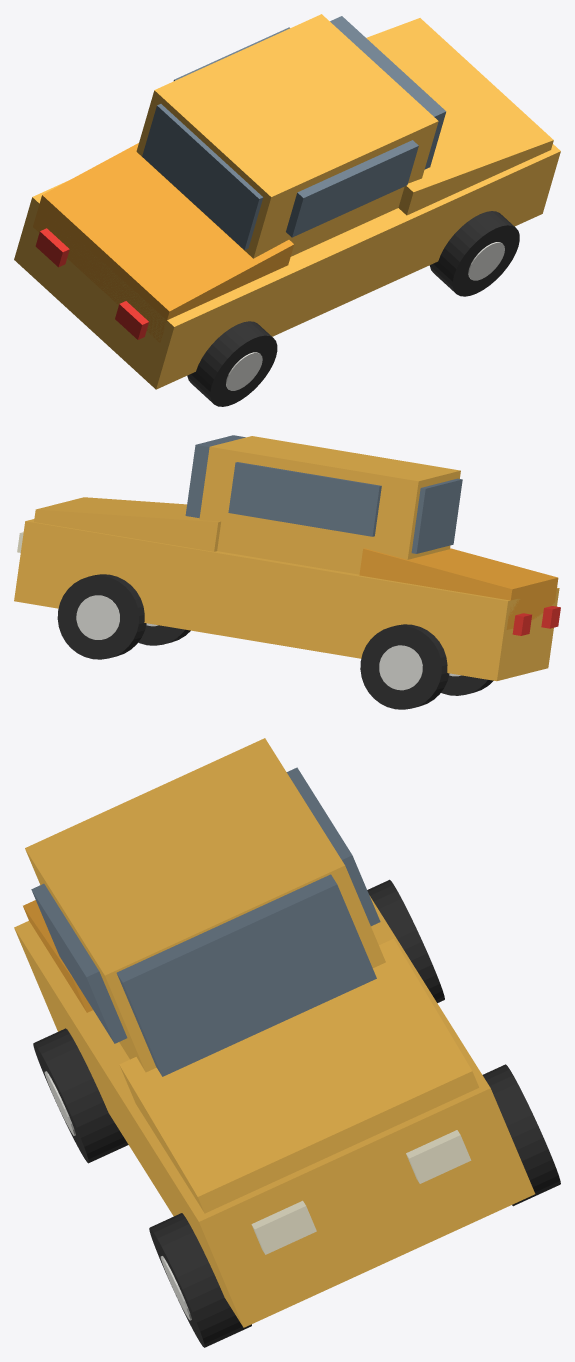
Rendered from car.glb.
3 views of the same model, one above another, from view 1: azimuth 30°, elevation 25°; view 2: azimuth 150°, elevation 25°; view 3: azimuth 270°, elevation 25° (orthographic). The views are drawn at different scales.
Size of the model in its own units: 3.63 by 1.96 by 2.31.
